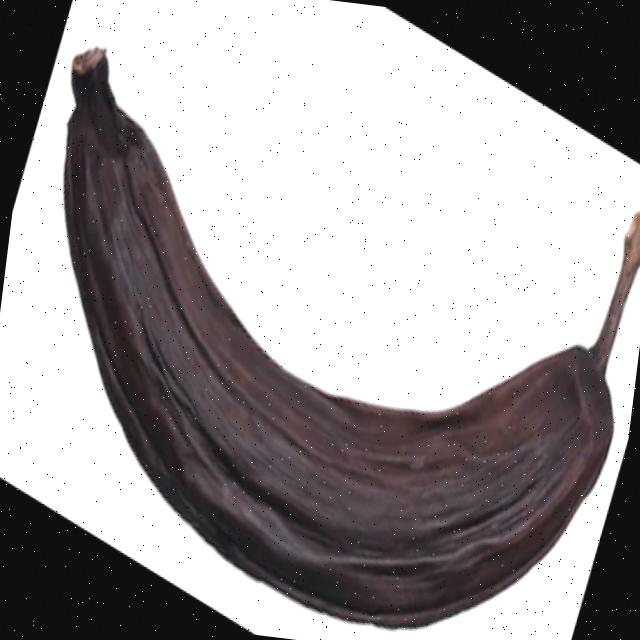Rotten: (5, 43, 640, 640)
